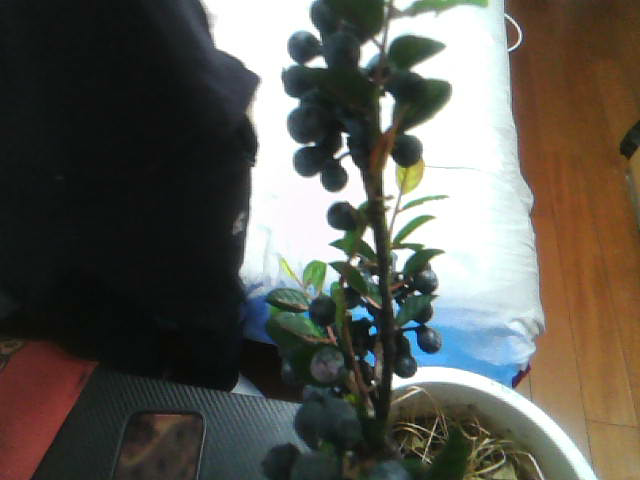blueberry: (279, 62, 316, 97), (391, 70, 426, 104), (391, 133, 426, 167), (282, 104, 315, 136), (286, 142, 318, 175), (279, 68, 312, 93), (321, 167, 355, 188)
